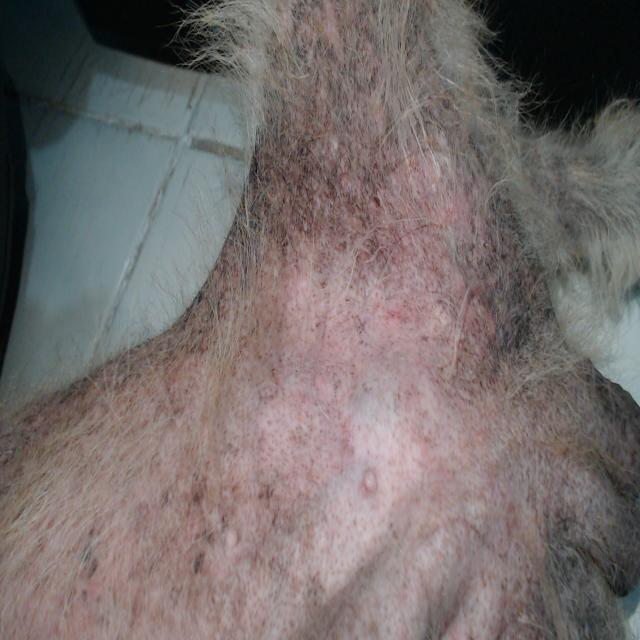demodicosis: (263, 30, 411, 236), (447, 188, 529, 333)
